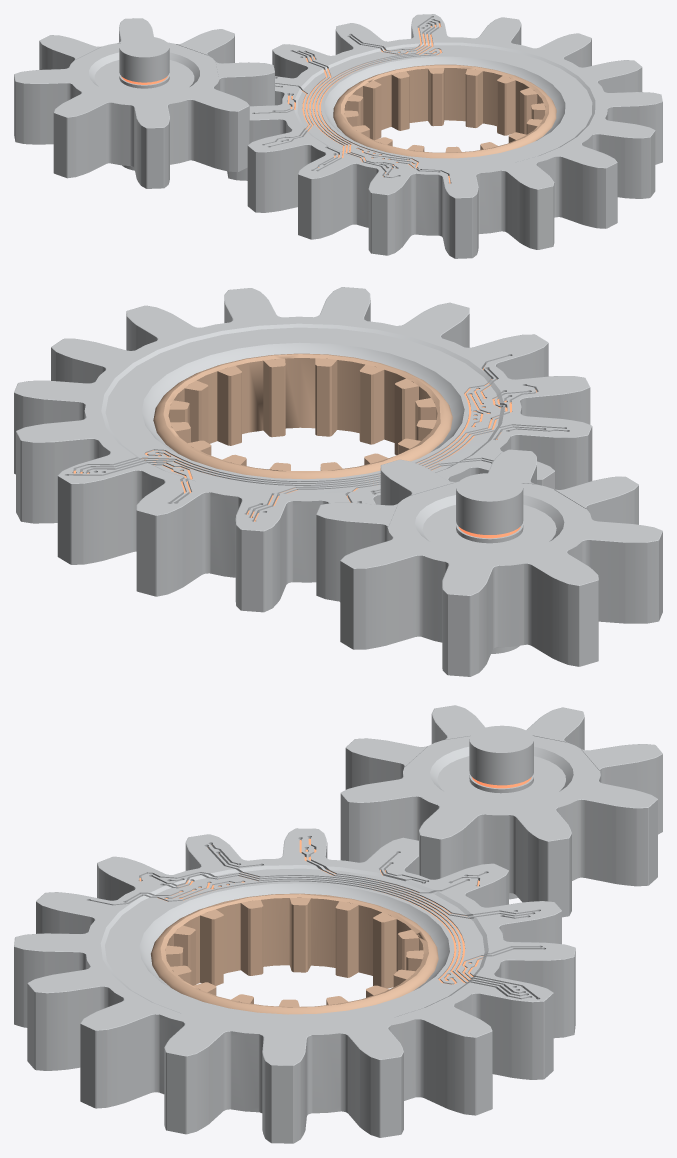
The model's file is ZapGear.glb.
3 renders of one model, top to bottom at view 1: azimuth 30°, elevation 25°; view 2: azimuth 150°, elevation 25°; view 3: azimuth 270°, elevation 25°, orthographic. The views are drawn at different scales.
Parts seen in each view (by area): view 1: Gear, Gear.001, GearInner, Connectors; view 2: Gear, Gear.001, GearInner, Connectors; view 3: Gear, Gear.001, GearInner, Connectors.
Boxes of the visible parts, x1,y1,x2,y2 form: Gear: (227, 14, 662, 258); Gear.001: (14, 18, 274, 188); GearInner: (333, 64, 556, 158); Connectors: (287, 23, 450, 183); Gear: (14, 287, 592, 612); Gear.001: (316, 449, 662, 676); GearInner: (153, 353, 452, 479); Connectors: (73, 368, 536, 521); Gear: (14, 828, 575, 1143); Gear.001: (340, 705, 662, 917); GearInner: (151, 893, 438, 1014); Connectors: (139, 838, 483, 984).
Size of the model in its own units: 17.81 by 3.77 by 15.04.
